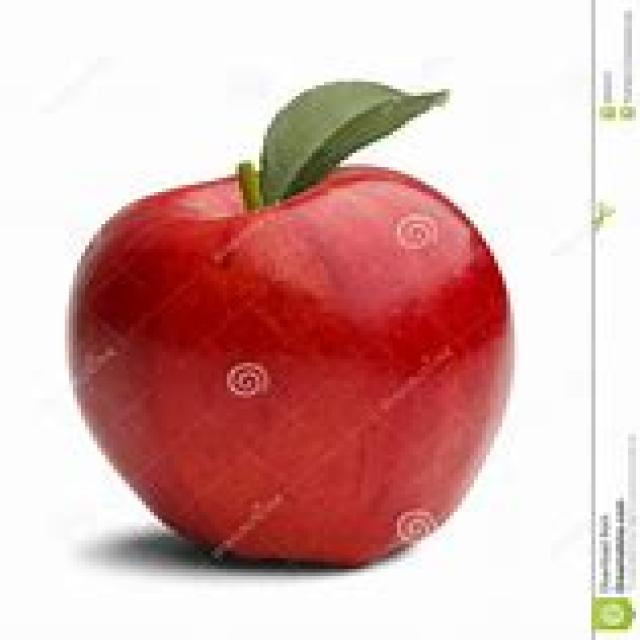apple: (66, 161, 516, 574)
